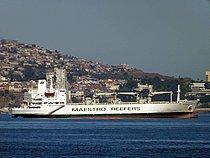Ship: (7, 63, 205, 122)
